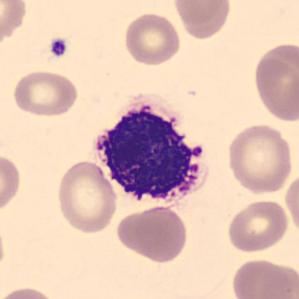Basophil: (85, 90, 218, 216)
Platelets: (47, 36, 69, 59)
RBC: (224, 121, 295, 195), (54, 158, 119, 235), (114, 204, 190, 263), (251, 40, 298, 124), (225, 198, 291, 254), (121, 10, 183, 68), (11, 67, 80, 119), (229, 257, 298, 299), (171, 0, 233, 43), (0, 151, 23, 215), (0, 0, 29, 45), (283, 170, 299, 236), (0, 284, 60, 299), (0, 219, 7, 278)
